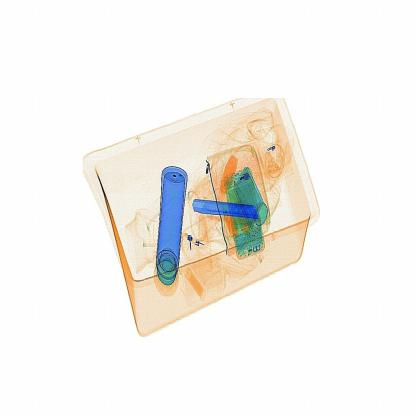pliers: (184, 188, 260, 233)
